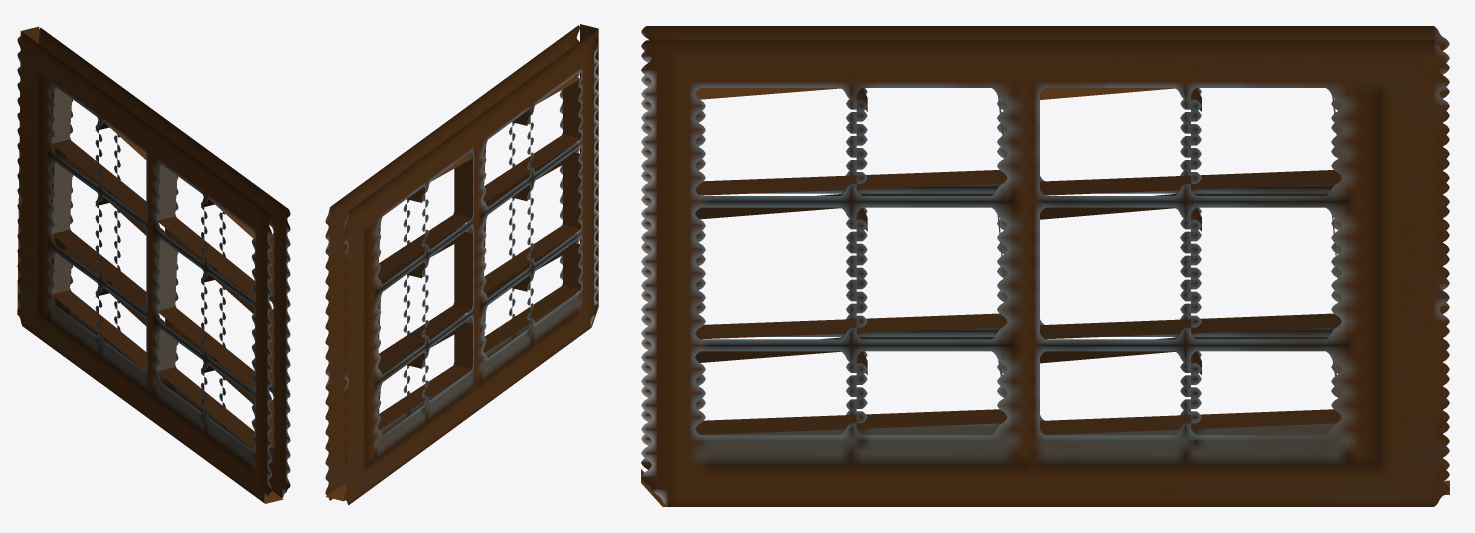
Rendered from pz_native_fixtures_windows_01_16_frame.obj.
The picture shows the model from 3 angles, left to right: view 1: azimuth 30°, elevation 25°; view 2: azimuth 150°, elevation 25°; view 3: azimuth 270°, elevation 25°; orthographic projection. The views are drawn at different scales.
Parts seen in each view (by area): view 1: pz_native_fixtures_windows_01_16_frame; view 2: pz_native_fixtures_windows_01_16_frame; view 3: pz_native_fixtures_windows_01_16_frame.
Part boxes in pixels (left/top/right/bottom): pz_native_fixtures_windows_01_16_frame: left=17, top=26, right=290, bottom=503; pz_native_fixtures_windows_01_16_frame: left=325, top=24, right=598, bottom=504; pz_native_fixtures_windows_01_16_frame: left=641, top=26, right=1449, bottom=506.
Size of the model in its own units: 0.04 by 0.6406 by 0.9823.
Materials: 1 (1 with a texture image).
